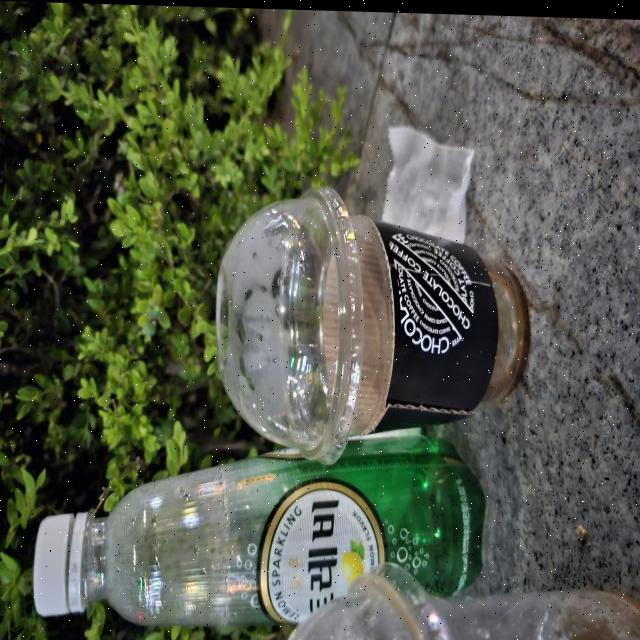cup: (213, 170, 539, 473)
